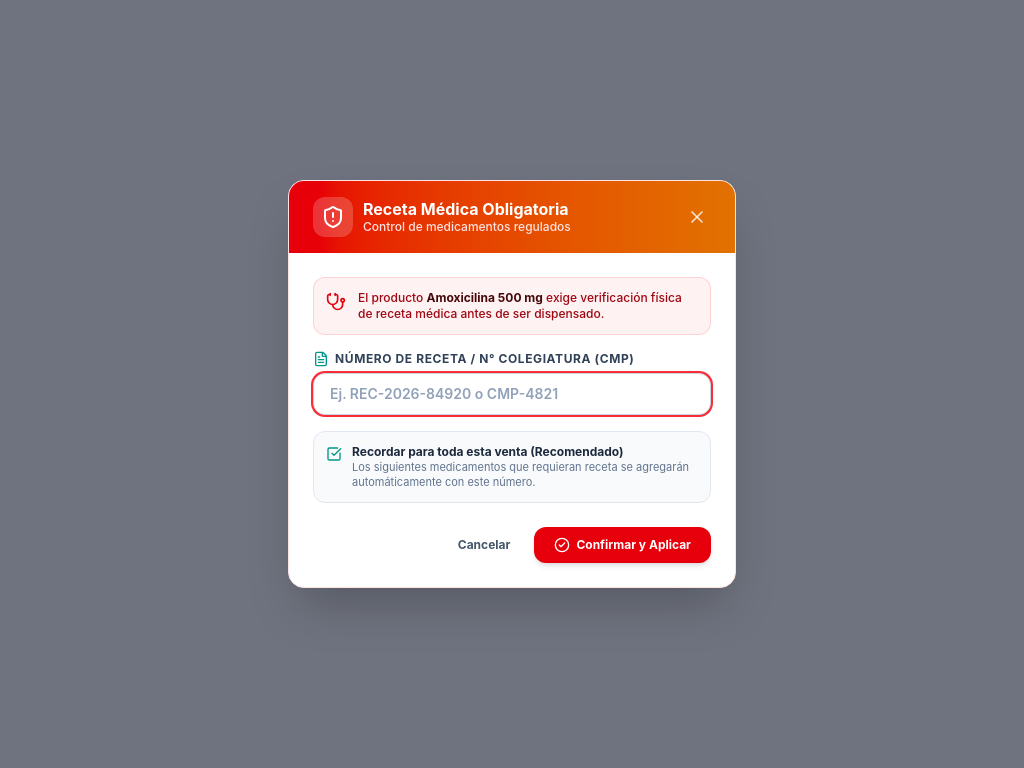
Test: RecetaModal › muestra error si se intenta enviar vacío
Click the button "Confirmar y Aplicar". click: (623, 545)
box: [534, 527, 711, 563]
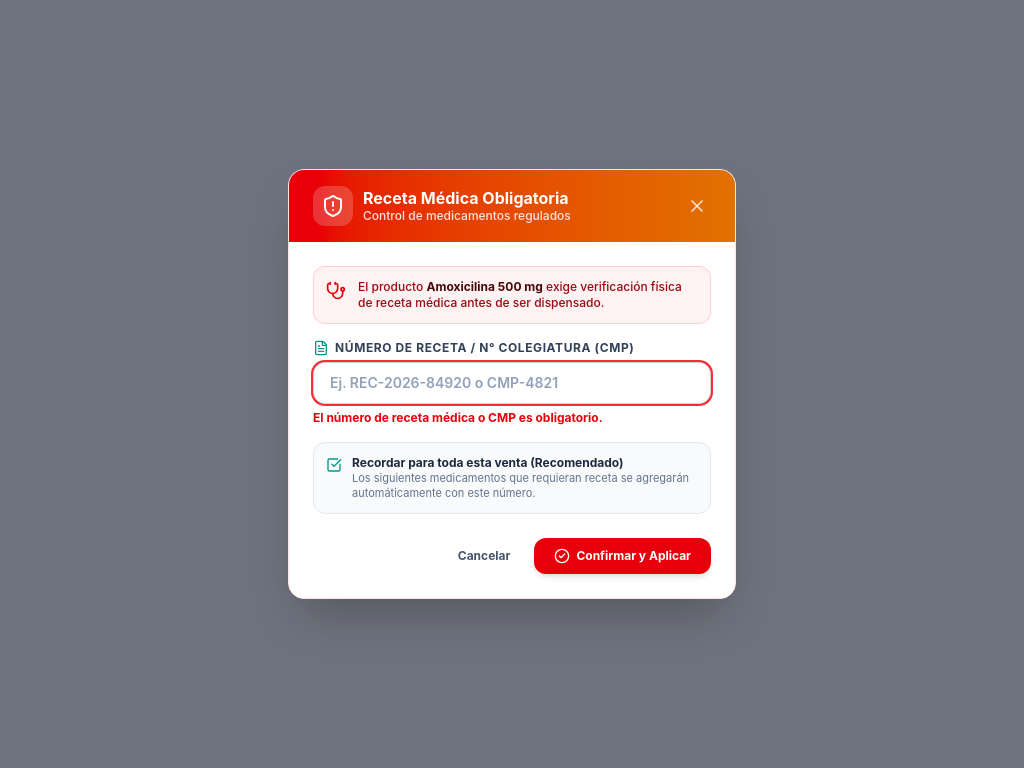
Expected: the text "El número de receta médica o CMP es obligatorio." is shown, [313, 410, 603, 425]
